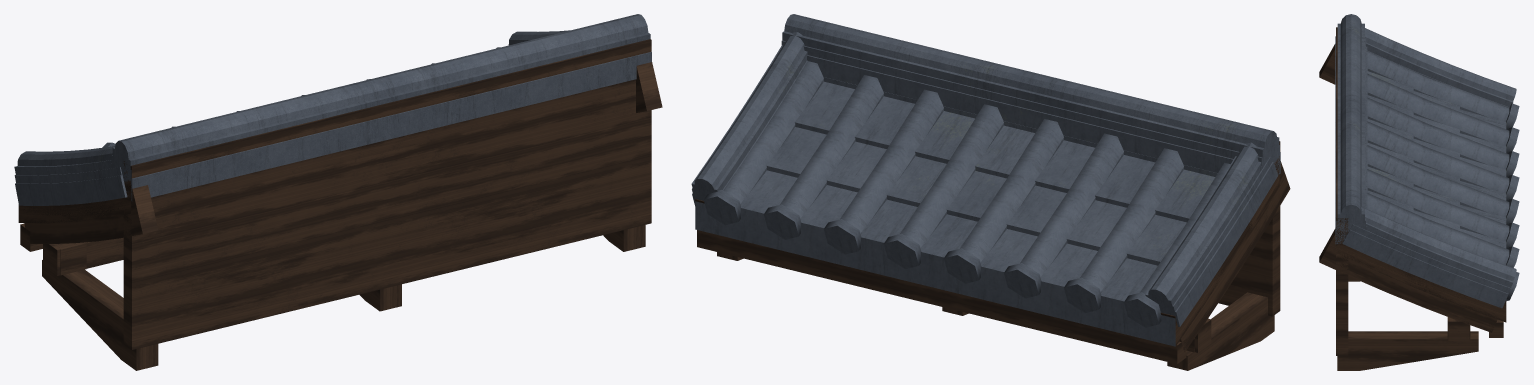
Rendered from HO_Roof_Hisashi_8.fbx.
3 views of the same model, side by side, from view 1: azimuth 30°, elevation 25°; view 2: azimuth 150°, elevation 25°; view 3: azimuth 270°, elevation 25° (orthographic). The views are drawn at different scales.
Parts seen in each view (by area): view 1: HO_Roof_Hisashi_8; view 2: HO_Roof_Hisashi_8; view 3: HO_Roof_Hisashi_8.
Part boxes in pixels (bbox=[...]): HO_Roof_Hisashi_8: bbox=[14, 14, 662, 370]; HO_Roof_Hisashi_8: bbox=[691, 14, 1290, 370]; HO_Roof_Hisashi_8: bbox=[1319, 14, 1519, 370].
Size of the model in its own units: 8.07 by 3.29 by 3.55.
